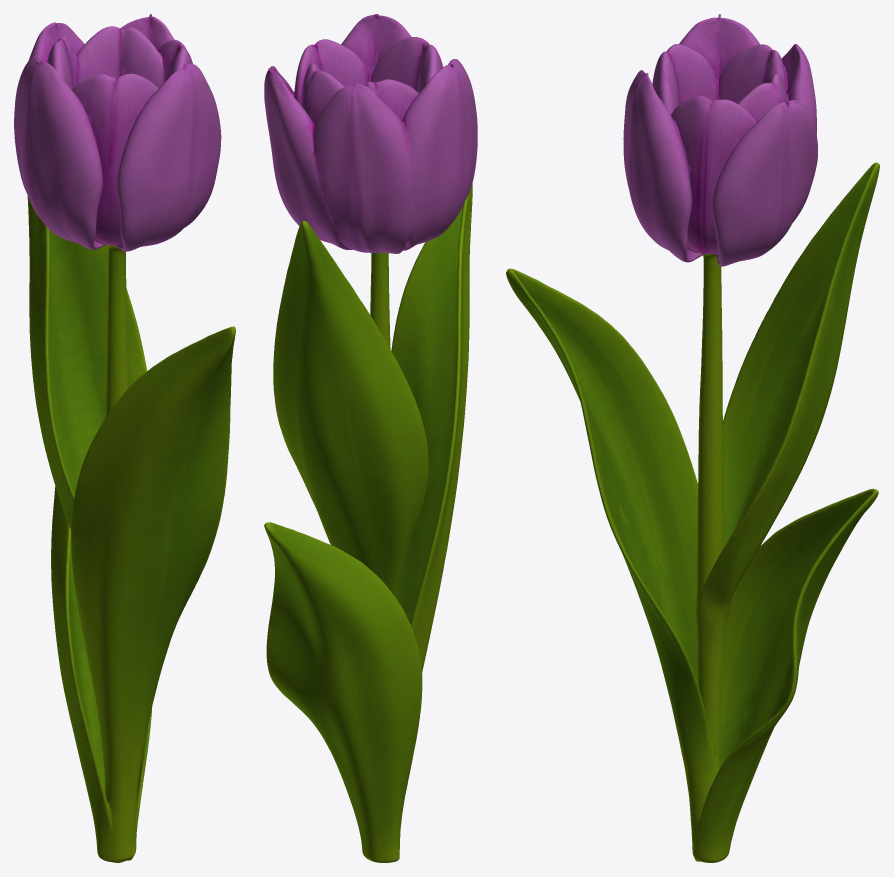
Rendered from PurpleTulip.glb.
The picture shows the model from 3 angles, left to right: view 1: azimuth 30°, elevation 25°; view 2: azimuth 150°, elevation 25°; view 3: azimuth 270°, elevation 25°; orthographic projection.
Visible parts, largest first — view 1: tripo_node_479da673-bc3c-45dd-9a6c-f2d5e9a77171; view 2: tripo_node_479da673-bc3c-45dd-9a6c-f2d5e9a77171; view 3: tripo_node_479da673-bc3c-45dd-9a6c-f2d5e9a77171.
Boxes of the visible parts, left/top/right/bottom form: tripo_node_479da673-bc3c-45dd-9a6c-f2d5e9a77171: left=14, top=14, right=235, bottom=862; tripo_node_479da673-bc3c-45dd-9a6c-f2d5e9a77171: left=264, top=14, right=477, bottom=862; tripo_node_479da673-bc3c-45dd-9a6c-f2d5e9a77171: left=506, top=14, right=879, bottom=862.
Bounding box in the file's own units: 0.2305 × 1 × 0.4196.
1 material, 1 textured.
